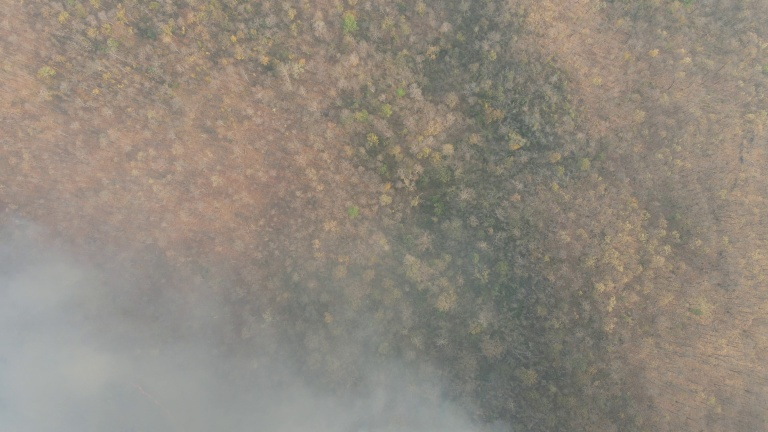fire: (131, 378, 175, 414)
smoke: (1, 267, 460, 432)
